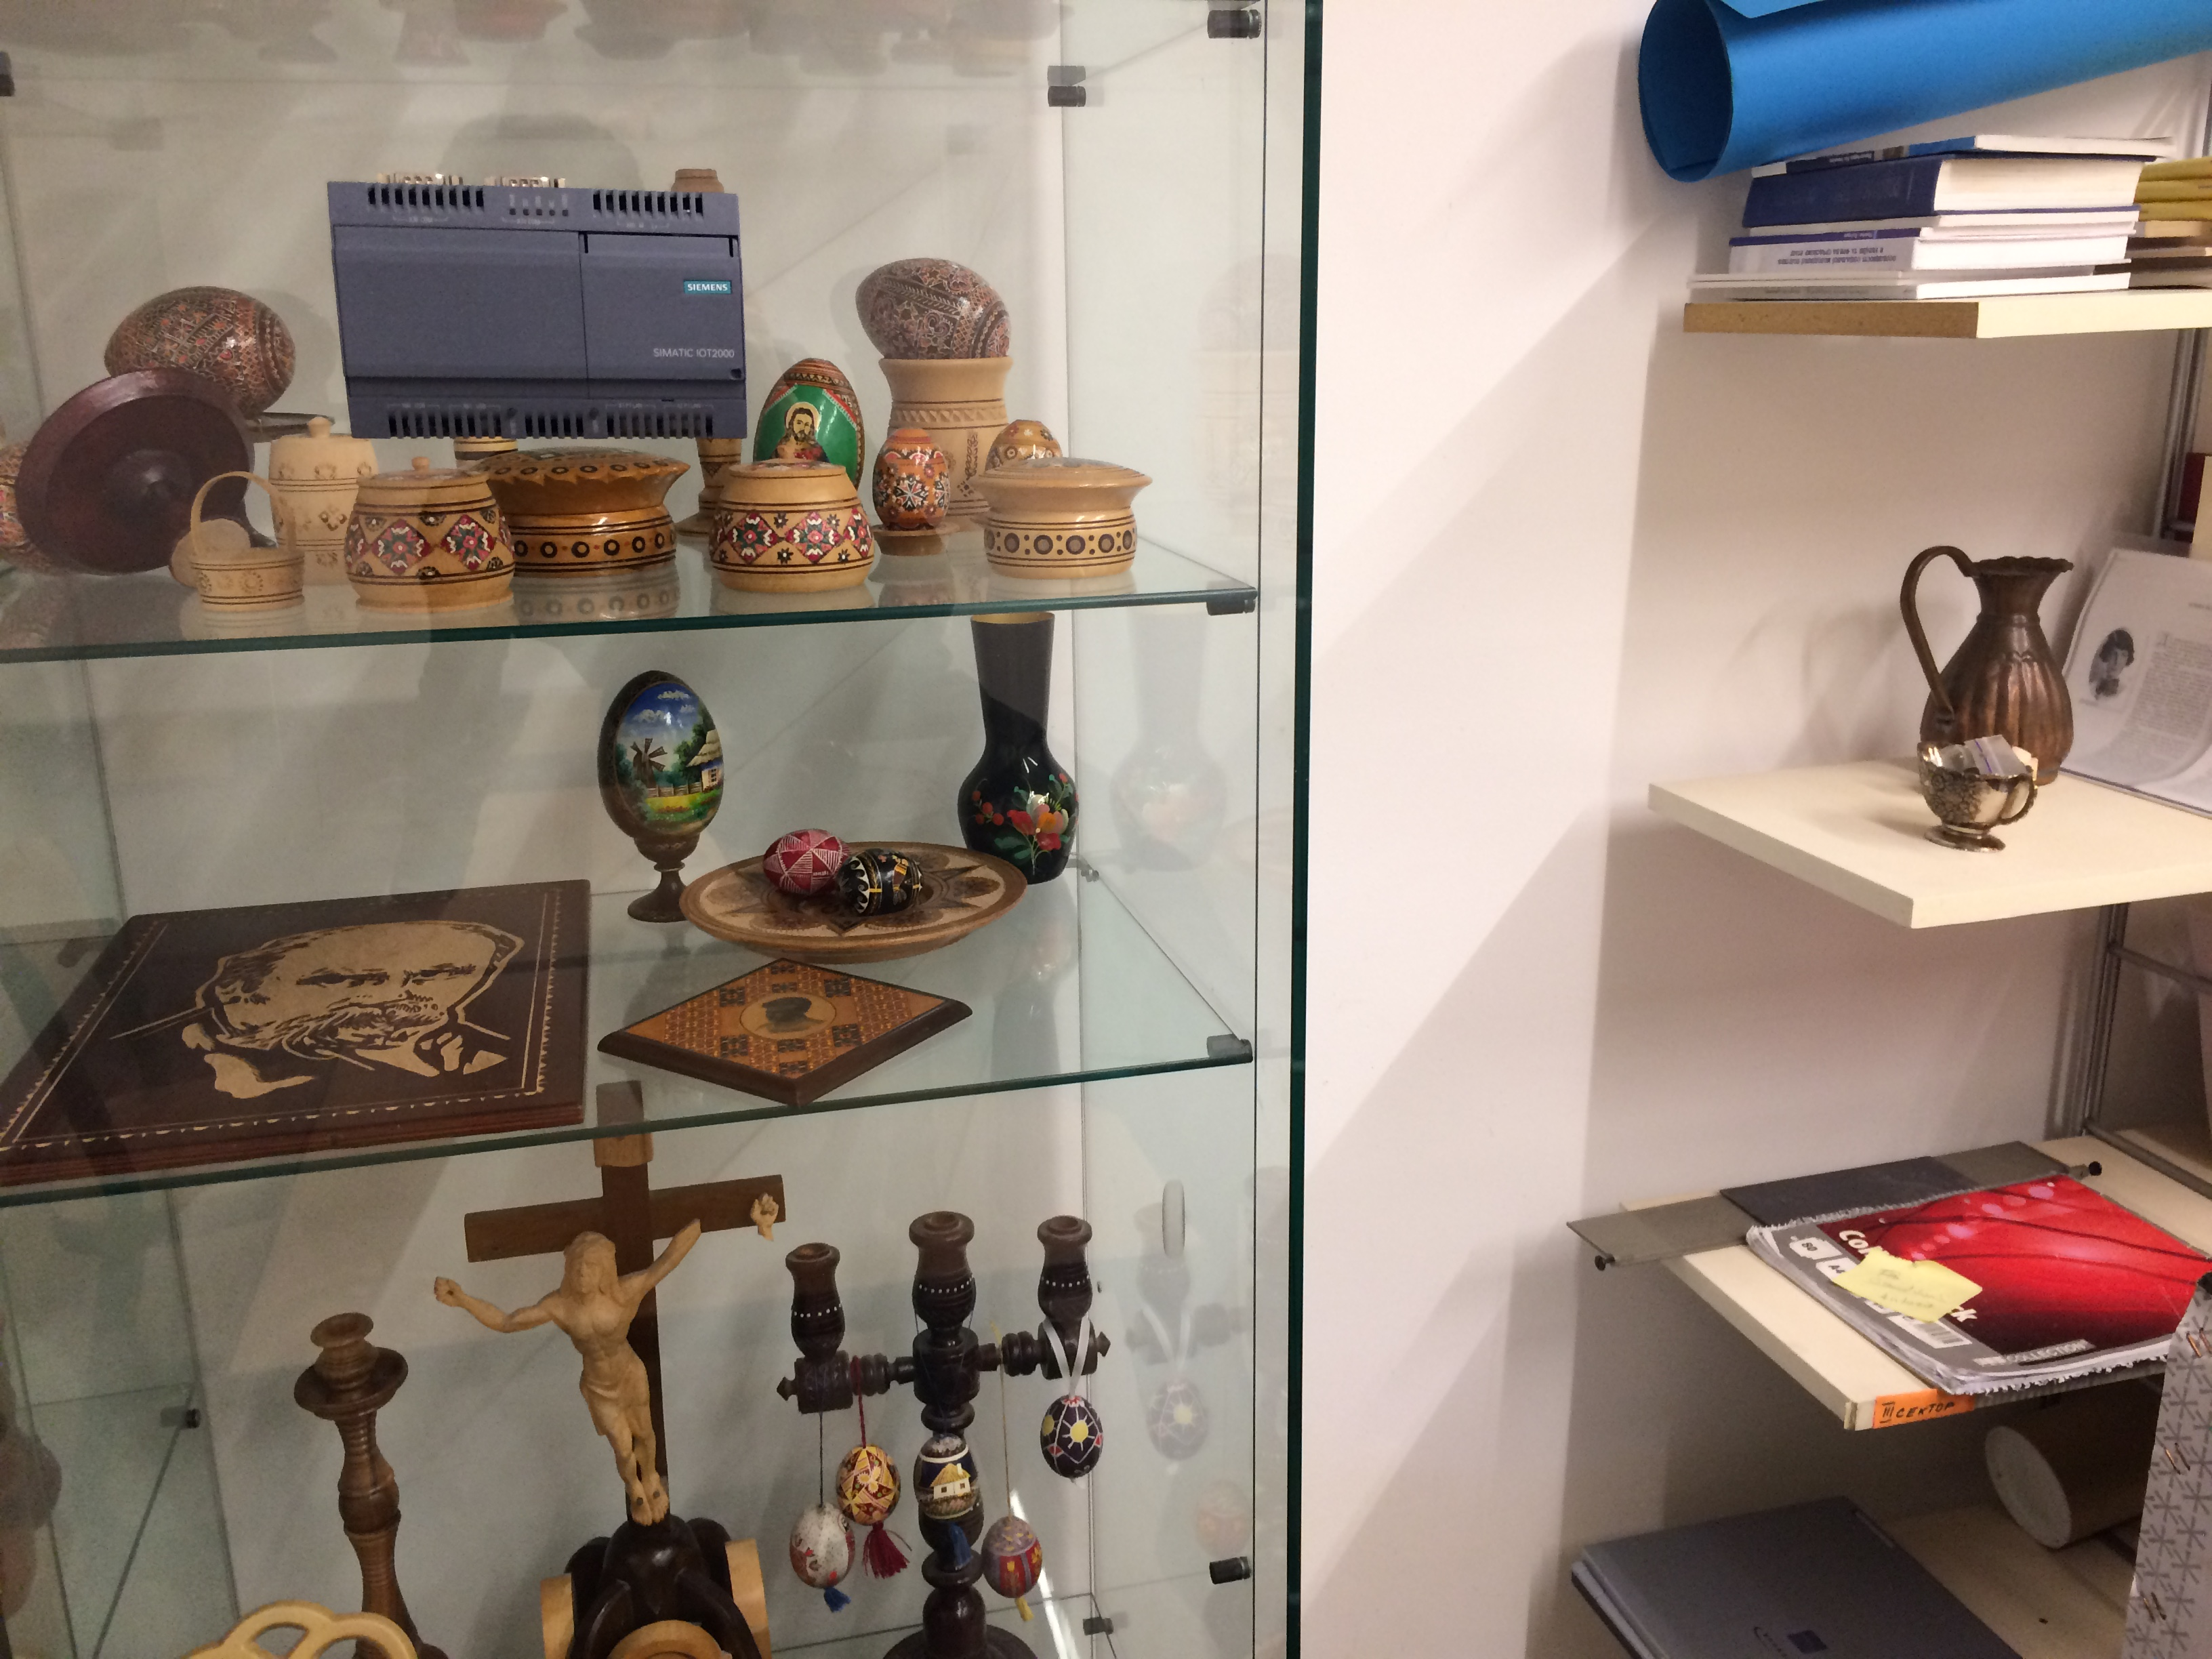iot2000: (324, 167, 752, 443)
